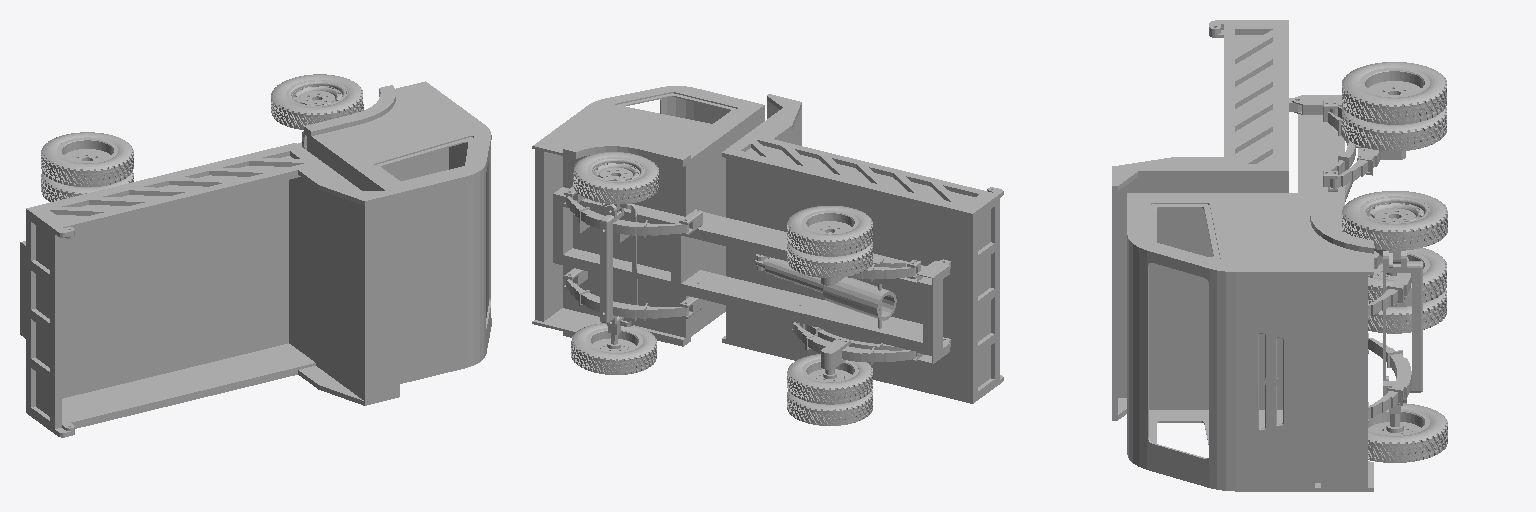
The robot description file, URDF, robot "truck_test":
<?xml version="1.0" encoding="utf-8"?>
<!-- This URDF was automatically created by SolidWorks to URDF Exporter! Originally created by [author] ([email redacted]) 
     Commit Version: 1.6.0-4-g7f85cfe  Build Version: 1.6.7995.38578
     For more information, please see http://wiki.ros.org/sw_urdf_exporter -->
<robot
  name="truck_test">
  <link
    name="base_link">
    <inertial>
      <origin
        xyz="0.259760640474851 -0.467548720387372 0.335956230561003"
        rpy="0 0 0" />
      <mass
        value="2.32505868943281" />
      <inertia
        ixx="0.014069019044393"
        ixy="0.00161818326659359"
        ixz="-1.94725722656981E-05"
        iyy="0.0280830008441316"
        iyz="-1.21068808202531E-05"
        izz="0.0217029845912727" />
    </inertial>
    <visual>
      <origin
        xyz="0 0 0"
        rpy="0 0 0" />
      <geometry>
        <mesh
          filename="package://truck_test/meshes/base_link.STL" />
      </geometry>
      <material
        name="">
        <color
          rgba="0.752941176470588 0.752941176470588 0.752941176470588 1" />
      </material>
    </visual>
    <collision>
      <origin
        xyz="0 0 0"
        rpy="0 0 0" />
      <geometry>
        <mesh
          filename="package://truck_test/meshes/base_link.STL" />
      </geometry>
    </collision>
  </link>
  <link
    name="than_xe_Link">
    <inertial>
      <origin
        xyz="0.18326177163538 0.0698508544255255 0.0403679615458223"
        rpy="0 0 0" />
      <mass
        value="2.32505868943281" />
      <inertia
        ixx="0.014069019044393"
        ixy="-1.94725722656979E-05"
        ixz="-0.00161818326659359"
        iyy="0.0217029845912727"
        iyz="1.21068808202522E-05"
        izz="0.0280830008441316" />
    </inertial>
    <visual>
      <origin
        xyz="0 0 0"
        rpy="0 0 0" />
      <geometry>
        <mesh
          filename="package://truck_test/meshes/than_xe_Link.STL" />
      </geometry>
      <material
        name="">
        <color
          rgba="0.752941176470588 0.752941176470588 0.752941176470588 1" />
      </material>
    </visual>
    <collision>
      <origin
        xyz="0 0 0"
        rpy="0 0 0" />
      <geometry>
        <mesh
          filename="package://truck_test/meshes/than_xe_Link.STL" />
      </geometry>
    </collision>
  </link>
  <joint
    name="thanxe_joint"
    type="fixed">
    <origin
      xyz="0.0764988688394709 -0.427180758841549 0.266105376135478"
      rpy="1.5707963267949 0 0" />
    <parent
      link="base_link" />
    <child
      link="than_xe_Link" />
    <axis
      xyz="0 0 0" />
  </joint>
  <link
    name="truoc_trai_Link">
    <inertial>
      <origin
        xyz="0.013490381079065 0.0226167812290494 0.0326361455051495"
        rpy="0 0 0" />
      <mass
        value="0.00329059193962959" />
      <inertia
        ixx="3.32152558237076E-07"
        ixy="-3.50498986120487E-08"
        ixz="-2.06512832188807E-08"
        iyy="1.52774520460725E-07"
        iyz="-2.40654597280753E-08"
        izz="4.20844978468863E-07" />
    </inertial>
    <visual>
      <origin
        xyz="0 0 0"
        rpy="0 0 0" />
      <geometry>
        <mesh
          filename="package://truck_test/meshes/truoc_trai_Link.STL" />
      </geometry>
      <material
        name="">
        <color
          rgba="0.752941176470588 0.752941176470588 0.752941176470588 1" />
      </material>
    </visual>
    <collision>
      <origin
        xyz="0 0 0"
        rpy="0 0 0" />
      <geometry>
        <mesh
          filename="package://truck_test/meshes/truoc_trai_Link.STL" />
      </geometry>
    </collision>
  </link>
  <joint
    name="truoc_trai_joint"
    type="revolute">
    <origin
      xyz="0.30047 0.16652 -0.092787"
      rpy="0 0 -3.105" />
    <parent
      link="than_xe_Link" />
    <child
      link="truoc_trai_Link" />
    <axis
      xyz="0 0 0" />
    <limit
      lower="0"
      upper="0"
      effort="0"
      velocity="0" />
  </joint>
  <link
    name="banh_truoc1_Link">
    <inertial>
      <origin
        xyz="-7.38923191212493E-06 3.72637425556377E-05 -0.00295106641677401"
        rpy="0 0 0" />
      <mass
        value="0.0980742688627906" />
      <inertia
        ixx="6.03131489550769E-05"
        ixy="-3.01897083348276E-11"
        ixz="1.08103027895803E-11"
        iyy="6.03131489694687E-05"
        iyz="-2.86861081346971E-12"
        izz="0.000114178379145237" />
    </inertial>
    <visual>
      <origin
        xyz="0 0 0"
        rpy="0 0 0" />
      <geometry>
        <mesh
          filename="package://truck_test/meshes/banh_truoc1_Link.STL" />
      </geometry>
      <material
        name="">
        <color
          rgba="0.752941176470588 0.752941176470588 0.752941176470588 1" />
      </material>
    </visual>
    <collision>
      <origin
        xyz="0 0 0"
        rpy="0 0 0" />
      <geometry>
        <mesh
          filename="package://truck_test/meshes/banh_truoc1_Link.STL" />
      </geometry>
    </collision>
  </link>
  <joint
    name="banh_truoc1_joint"
    type="continuous">
    <origin
      xyz="0.012439 0 0.031801"
      rpy="1.5708 0.37263 -3.1416" />
    <parent
      link="truoc_trai_Link" />
    <child
      link="banh_truoc1_Link" />
    <axis
      xyz="0 0 1" />
  </joint>
  <link
    name="don_ngang_Link">
    <inertial>
      <origin
        xyz="0.0502009199097646 0.0628359310057351 0.0872090978337698"
        rpy="0 0 0" />
      <mass
        value="0.00155415624671255" />
      <inertia
        ixx="3.84464235337684E-09"
        ixy="3.82383625198244E-21"
        ixz="-1.38467926816846E-22"
        iyy="1.87407475055403E-06"
        iyz="-2.69741837890162E-23"
        izz="1.87656383189001E-06" />
    </inertial>
    <visual>
      <origin
        xyz="0 0 0"
        rpy="0 0 0" />
      <geometry>
        <mesh
          filename="package://truck_test/meshes/don_ngang_Link.STL" />
      </geometry>
      <material
        name="">
        <color
          rgba="0.752941176470588 0.752941176470588 0.752941176470588 1" />
      </material>
    </visual>
    <collision>
      <origin
        xyz="0 0 0"
        rpy="0 0 0" />
      <geometry>
        <mesh
          filename="package://truck_test/meshes/don_ngang_Link.STL" />
      </geometry>
    </collision>
  </link>
  <joint
    name="don_ngang_joint"
    type="revolute">
    <origin
      xyz="-0.031378 0.048592 0.12797"
      rpy="3.1416 0 1.5296" />
    <parent
      link="truoc_trai_Link" />
    <child
      link="don_ngang_Link" />
    <axis
      xyz="0 0 0" />
    <limit
      lower="0"
      upper="0"
      effort="0"
      velocity="0" />
  </joint>
  <link
    name="truoc_phai_Link">
    <inertial>
      <origin
        xyz="0.000567069503805084 0.0345795818110656 -0.0531874787071282"
        rpy="0 0 0" />
      <mass
        value="0.00460249007660857" />
      <inertia
        ixx="2.17921636822645E-06"
        ixy="2.65600242282464E-08"
        ixz="2.31272254873978E-08"
        iyy="2.25073662129827E-06"
        iyz="1.86546413725398E-08"
        izz="1.29579648445004E-07" />
    </inertial>
    <visual>
      <origin
        xyz="0 0 0"
        rpy="0 0 0" />
      <geometry>
        <mesh
          filename="package://truck_test/meshes/truoc_phai_Link.STL" />
      </geometry>
      <material
        name="">
        <color
          rgba="0.752941176470588 0.752941176470588 0.752941176470588 1" />
      </material>
    </visual>
    <collision>
      <origin
        xyz="0 0 0"
        rpy="0 0 0" />
      <geometry>
        <mesh
          filename="package://truck_test/meshes/truoc_phai_Link.STL" />
      </geometry>
    </collision>
  </link>
  <joint
    name="truoc_phai_joint"
    type="revolute">
    <origin
      xyz="0.28334 -0.032724 -0.092073"
      rpy="1.5708 0 0.036063" />
    <parent
      link="than_xe_Link" />
    <child
      link="truoc_phai_Link" />
    <axis
      xyz="0 0 0" />
    <limit
      lower="0"
      upper="0"
      effort="0"
      velocity="0" />
  </joint>
  <link
    name="banh_truoc2_Link">
    <inertial>
      <origin
        xyz="-7.38898232466312E-06 3.72637288880706E-05 0.00319597779955105"
        rpy="0 0 0" />
      <mass
        value="0.0980742666758258" />
      <inertia
        ixx="6.03131482537995E-05"
        ixy="-3.01912634568255E-11"
        ixz="1.1019330032679E-11"
        iyy="6.03131482504292E-05"
        iyz="-2.88122273089522E-12"
        izz="0.000114178377999313" />
    </inertial>
    <visual>
      <origin
        xyz="0 0 0"
        rpy="0 0 0" />
      <geometry>
        <mesh
          filename="package://truck_test/meshes/banh_truoc2_Link.STL" />
      </geometry>
      <material
        name="">
        <color
          rgba="0.752941176470588 0.752941176470588 0.752941176470588 1" />
      </material>
    </visual>
    <collision>
      <origin
        xyz="0 0 0"
        rpy="0 0 0" />
      <geometry>
        <mesh
          filename="package://truck_test/meshes/banh_truoc2_Link.STL" />
      </geometry>
    </collision>
  </link>
  <joint
    name="banh_truoc2_joint"
    type="continuous">
    <origin
      xyz="0.0072289 0.031087 0"
      rpy="-3.1416 0 -0.06201" />
    <parent
      link="truoc_phai_Link" />
    <child
      link="banh_truoc2_Link" />
    <axis
      xyz="0 0 1" />
  </joint>
  <link
    name="don_ngang2_Link">
    <inertial>
      <origin
        xyz="0.0502009199099638 0.0628359310054007 0.0872090978337698"
        rpy="0 0 0" />
      <mass
        value="0.00155415624671255" />
      <inertia
        ixx="3.84464235337684E-09"
        ixy="3.82383786756957E-21"
        ixz="-1.39114862817977E-22"
        iyy="1.87407475055402E-06"
        iyz="-2.69454356908742E-23"
        izz="1.87656383189E-06" />
    </inertial>
    <visual>
      <origin
        xyz="0 0 0"
        rpy="0 0 0" />
      <geometry>
        <mesh
          filename="package://truck_test/meshes/don_ngang2_Link.STL" />
      </geometry>
      <material
        name="">
        <color
          rgba="0.752941176470588 0.752941176470588 0.752941176470588 1" />
      </material>
    </visual>
    <collision>
      <origin
        xyz="0 0 0"
        rpy="0 0 0" />
      <geometry>
        <mesh
          filename="package://truck_test/meshes/don_ngang2_Link.STL" />
      </geometry>
    </collision>
  </link>
  <joint
    name="don_ngang2_joint"
    type="revolute">
    <origin
      xyz="0.055707 0.12726 -0.14992"
      rpy="-1.5708 -1.5302 -3.1416" />
    <parent
      link="truoc_phai_Link" />
    <child
      link="don_ngang2_Link" />
    <axis
      xyz="0 0 0" />
    <limit
      lower="0"
      upper="0"
      effort="0"
      velocity="0" />
  </joint>
  <link
    name="banh_sau1_Link">
    <inertial>
      <origin
        xyz="-7.49768197895462E-06 -1.11022302462516E-16 -0.0239620516410381"
        rpy="0 0 0" />
      <mass
        value="0.193306713115273" />
      <inertia
        ixx="0.000120490751859517"
        ixy="2.40557357020221E-19"
        ixz="-5.16540204946706E-13"
        iyy="0.000120490751863662"
        iyz="-5.76504414756025E-12"
        izz="0.000228105291957227" />
    </inertial>
    <visual>
      <origin
        xyz="0 0 0"
        rpy="0 0 0" />
      <geometry>
        <mesh
          filename="package://truck_test/meshes/banh_sau1_Link.STL" />
      </geometry>
      <material
        name="">
        <color
          rgba="0.752941176470588 0.752941176470588 0.752941176470588 1" />
      </material>
    </visual>
    <collision>
      <origin
        xyz="0 0 0"
        rpy="0 0 0" />
      <geometry>
        <mesh
          filename="package://truck_test/meshes/banh_sau1_Link.STL" />
      </geometry>
    </collision>
  </link>
  <joint
    name="banh_sau1_joint"
    type="continuous">
    <origin
      xyz="0.029196 0.13123 -0.060485"
      rpy="1.5708 0.61288 0" />
    <parent
      link="than_xe_Link" />
    <child
      link="banh_sau1_Link" />
    <axis
      xyz="0 0 1" />
  </joint>
  <link
    name="banh_sau2_Link">
    <inertial>
      <origin
        xyz="-7.49789550436031E-06 -2.77555756156289E-16 -0.0154525872924146"
        rpy="0 0 0" />
      <mass
        value="0.193306715705177" />
      <inertia
        ixx="0.000120490752985972"
        ixy="-1.27393755267047E-18"
        ixz="-3.78195081290541E-15"
        iyy="0.000120490752990143"
        iyz="-5.76504461218811E-12"
        izz="0.000228105293583605" />
    </inertial>
    <visual>
      <origin
        xyz="0 0 0"
        rpy="0 0 0" />
      <geometry>
        <mesh
          filename="package://truck_test/meshes/banh_sau2_Link.STL" />
      </geometry>
      <material
        name="">
        <color
          rgba="0.752941176470588 0.752941176470588 0.752941176470588 1" />
      </material>
    </visual>
    <collision>
      <origin
        xyz="0 0 0"
        rpy="0 0 0" />
      <geometry>
        <mesh
          filename="package://truck_test/meshes/banh_sau2_Link.STL" />
      </geometry>
    </collision>
  </link>
  <joint
    name="banh_sau2_joint"
    type="continuous">
    <origin
      xyz="0.029196 0 -0.060485"
      rpy="1.5708 1.2032 3.1416" />
    <parent
      link="than_xe_Link" />
    <child
      link="banh_sau2_Link" />
    <axis
      xyz="0 0 1" />
  </joint>
</robot>

--- Facts derived from the render (not from the file) ---
3 views of the same robot in one strip: view 1: azimuth 30°, elevation 25°; view 2: azimuth 150°, elevation 25°; view 3: azimuth 270°, elevation 25° (orthographic).
Model truck_test with 10 links and 9 joints (4 revolute, 4 continuous, 1 fixed), rooted at base_link, posed all joints at 0.
Links seen in each view (by area): view 1: base_link, than_xe_Link, banh_sau1_Link, banh_truoc1_Link; view 2: base_link, than_xe_Link, banh_sau1_Link, banh_sau2_Link, banh_truoc1_Link, banh_truoc2_Link, truoc_phai_Link; view 3: base_link, banh_sau1_Link, banh_truoc1_Link, banh_truoc2_Link, banh_sau2_Link, than_xe_Link.
Link boxes in pixels (box(x1,y1,x2,y2)): base_link: box(20, 81, 491, 437); than_xe_Link: box(31, 131, 488, 405); banh_sau1_Link: box(41, 132, 133, 201); banh_truoc1_Link: box(271, 74, 363, 129); base_link: box(532, 86, 1003, 403); than_xe_Link: box(535, 96, 998, 398); banh_sau1_Link: box(787, 206, 872, 277); banh_sau2_Link: box(787, 354, 872, 425); banh_truoc1_Link: box(573, 152, 658, 203); banh_truoc2_Link: box(571, 323, 656, 374); truoc_phai_Link: box(608, 214, 637, 344); base_link: box(1112, 20, 1422, 491); banh_sau1_Link: box(1342, 62, 1446, 151); banh_truoc1_Link: box(1342, 191, 1447, 250); banh_truoc2_Link: box(1368, 403, 1447, 462); banh_sau2_Link: box(1368, 248, 1446, 333); than_xe_Link: box(1112, 98, 1422, 485).
Bounding box of the posed robot: 0.4915 × 0.286 × 0.2227 m (x, y, z).
9 mesh visuals loaded from 10 distinct referenced files (9 binary STL); not drawn: 1 (reference not matched to a file when rendering).